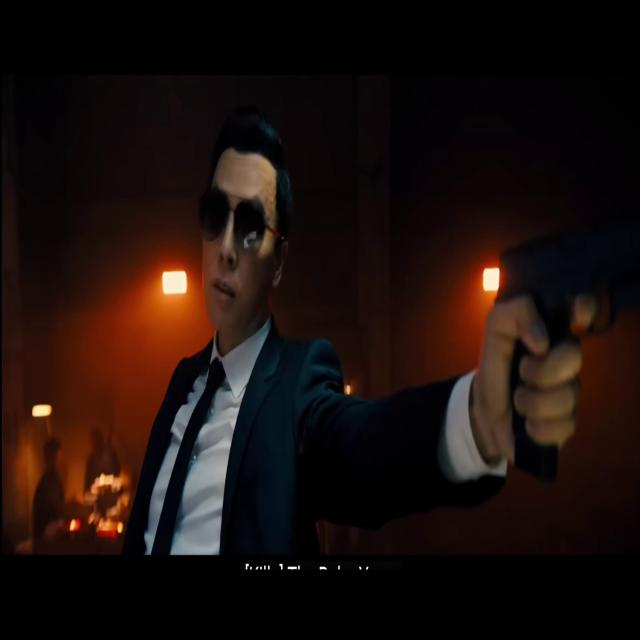weapons: (487, 191, 639, 494)
